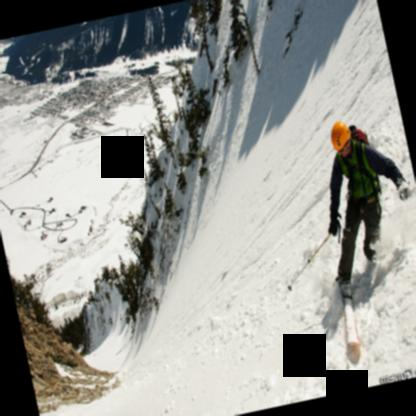backpack: (348, 124, 369, 145)
